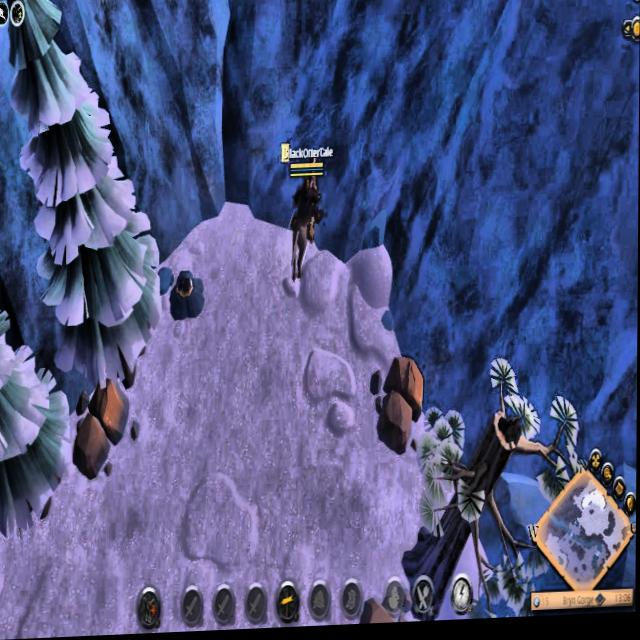copperore: (168, 269, 206, 323)
limestone: (72, 376, 132, 477), (375, 359, 427, 456)
